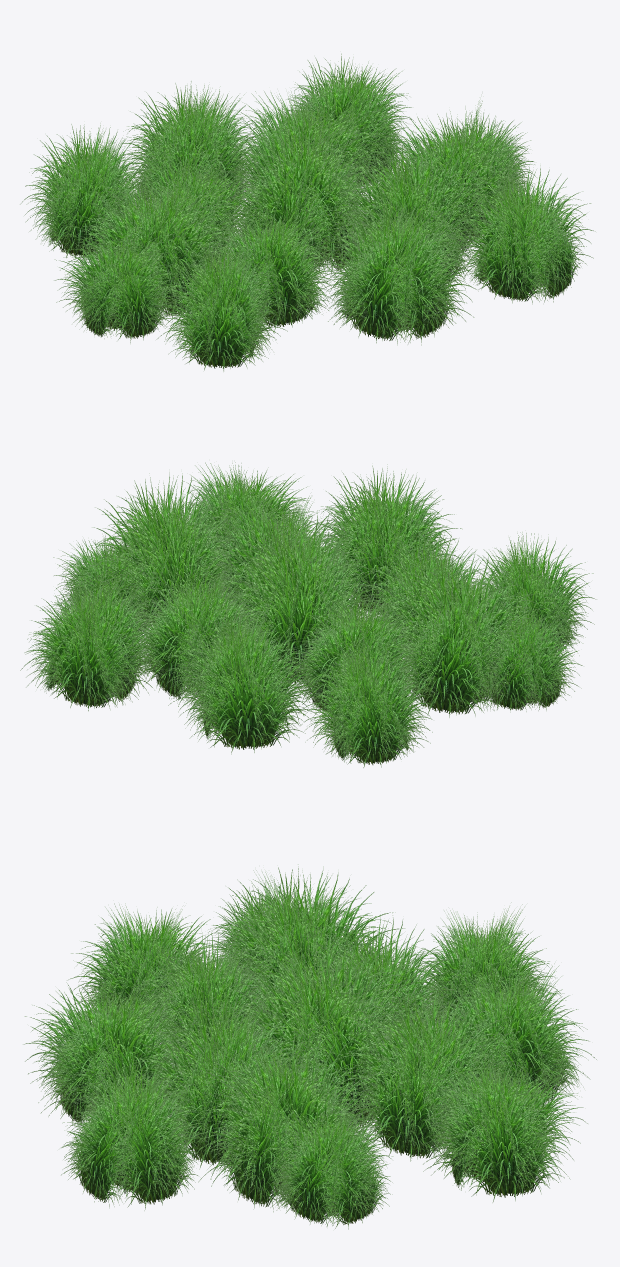
Rendered from grass_carpet.obj.
3 views of the same model, one above another, from view 1: azimuth 30°, elevation 25°; view 2: azimuth 150°, elevation 25°; view 3: azimuth 270°, elevation 25° (orthographic). The views are drawn at different scales.
Visible parts, largest first — view 1: grass_carpet; view 2: grass_carpet; view 3: grass_carpet.
Boxes of the visible parts, <box> form: grass_carpet: <box>20,53,595,371</box>; grass_carpet: <box>20,462,596,767</box>; grass_carpet: <box>23,864,596,1229</box>.
Bounding box in the file's own units: 2.75 × 0.9534 × 2.44.
1 material, 1 textured.
